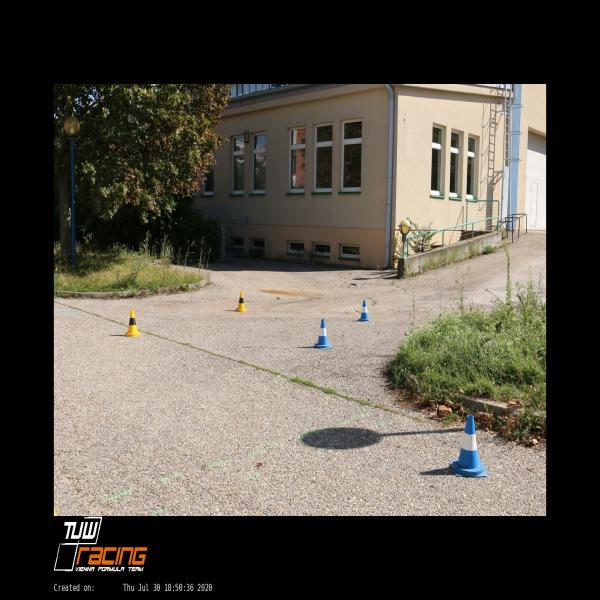blue_cone: (450, 415, 488, 477), (314, 319, 332, 349), (358, 300, 371, 322)
yellow_cone: (124, 310, 141, 337), (235, 291, 247, 312)
